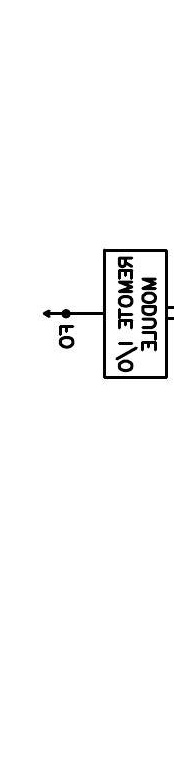remote_io_module: (103, 248, 168, 379)
